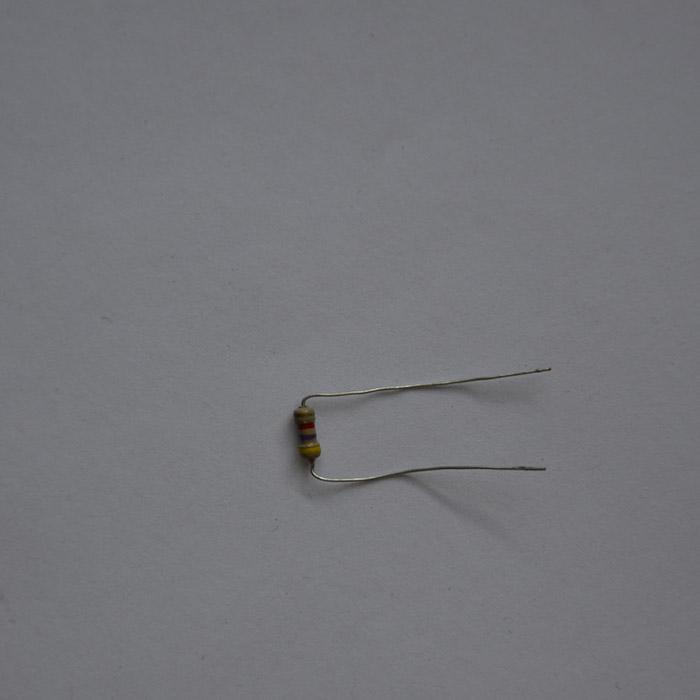resistor: (293, 404, 321, 461)
